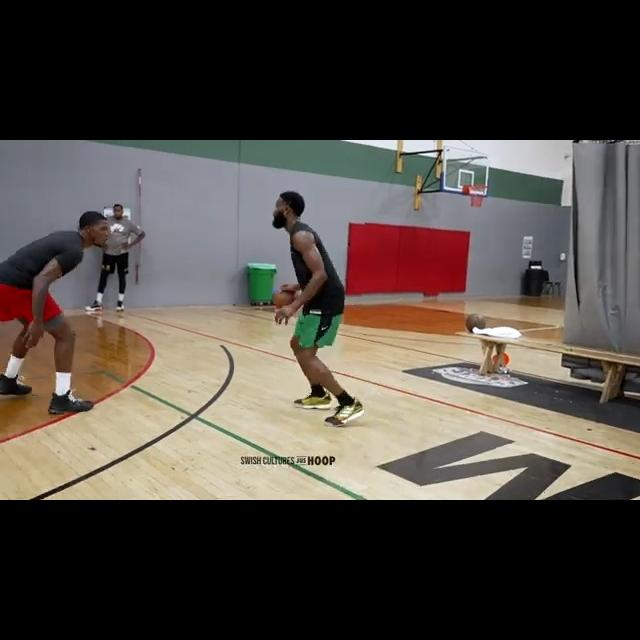basketball: (465, 314, 487, 333)
hoop: (468, 184, 487, 207)
person: (265, 192, 369, 428), (0, 210, 107, 414), (85, 204, 147, 315)
